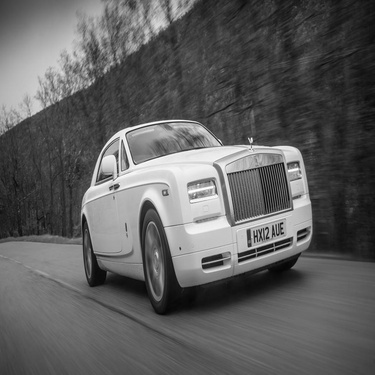car: (58, 108, 320, 304)
